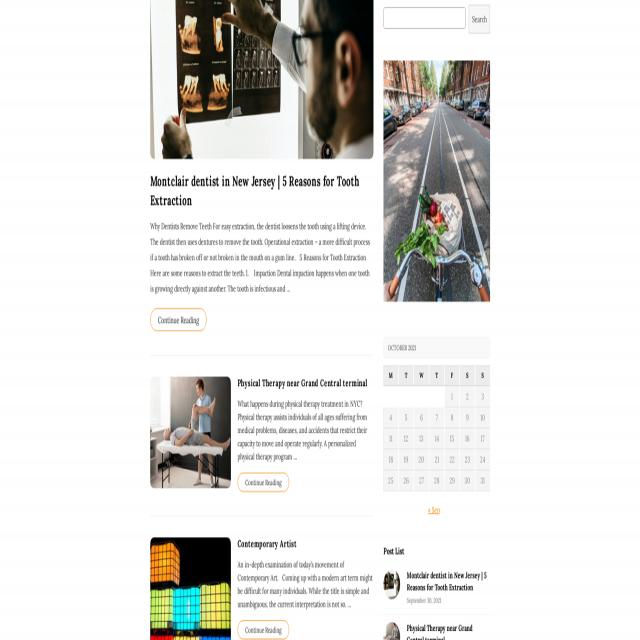button: (150, 0, 373, 159), (383, 61, 490, 302), (150, 377, 231, 488), (150, 537, 232, 640), (150, 308, 206, 331), (237, 473, 289, 492), (239, 621, 289, 640), (468, 5, 489, 34), (384, 569, 400, 599), (384, 621, 400, 640)
field: (383, 7, 466, 29)
